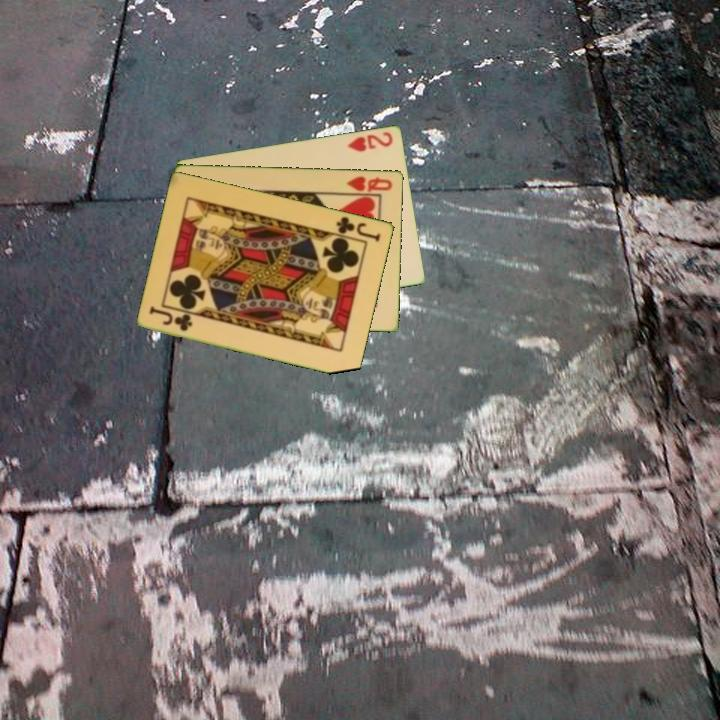2h: (344, 128, 396, 154)
Jc: (333, 213, 384, 244), (146, 304, 196, 334)
Qh: (343, 173, 396, 195)
